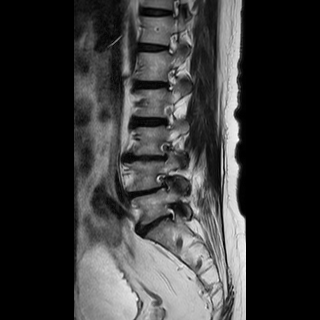RFS0: (155, 99, 180, 133)
RFS3: (149, 168, 176, 198), (154, 137, 181, 166)
